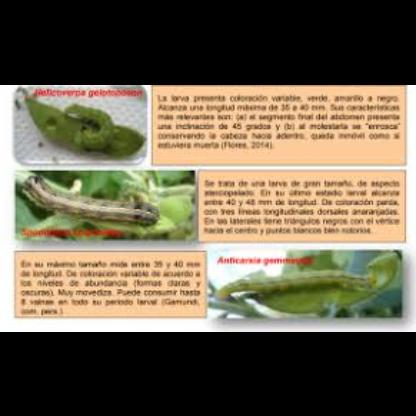oruga: (24, 170, 162, 222), (214, 264, 372, 302), (65, 101, 115, 151)
